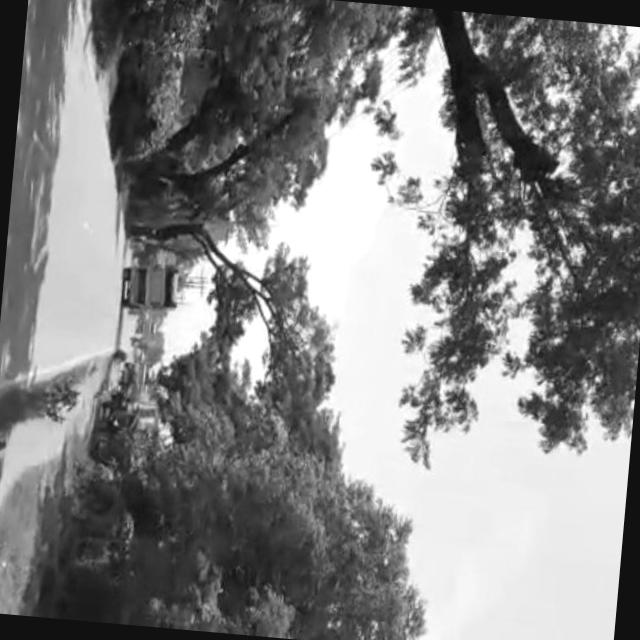truck: (125, 266, 180, 314)
